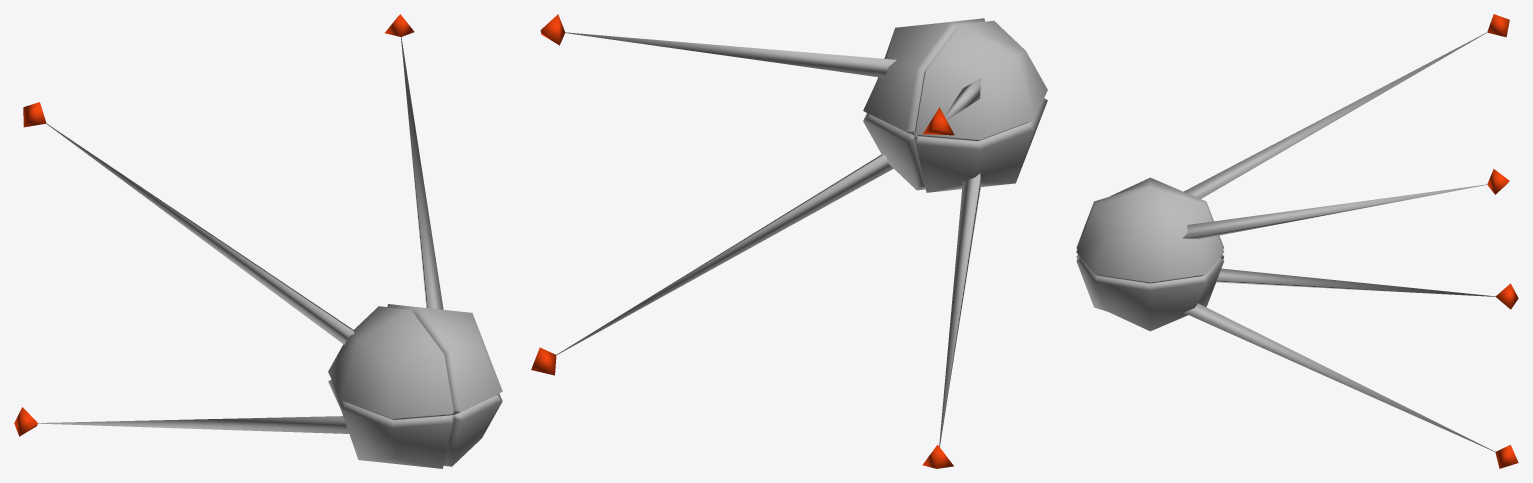
Rendered from Probe-TypeA-Sputnik.fbx.
3 views of the same model, side by side, from view 1: azimuth 30°, elevation 25°; view 2: azimuth 150°, elevation 25°; view 3: azimuth 270°, elevation 25° (orthographic). The views are drawn at different scales.
Parts seen in each view (by area): view 1: pPyramid9; view 2: pPyramid9; view 3: pPyramid9.
Boxes of the visible parts, x1,y1,x2,y2 form: pPyramid9: (14, 14, 502, 468); pPyramid9: (531, 14, 1047, 468); pPyramid9: (1076, 14, 1518, 468).
Size of the model in its own units: 0.3895 by 0.3139 by 0.4298.
